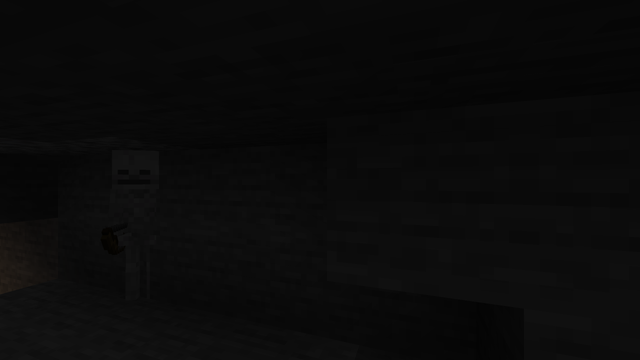squelettes: (104, 149, 160, 310)
